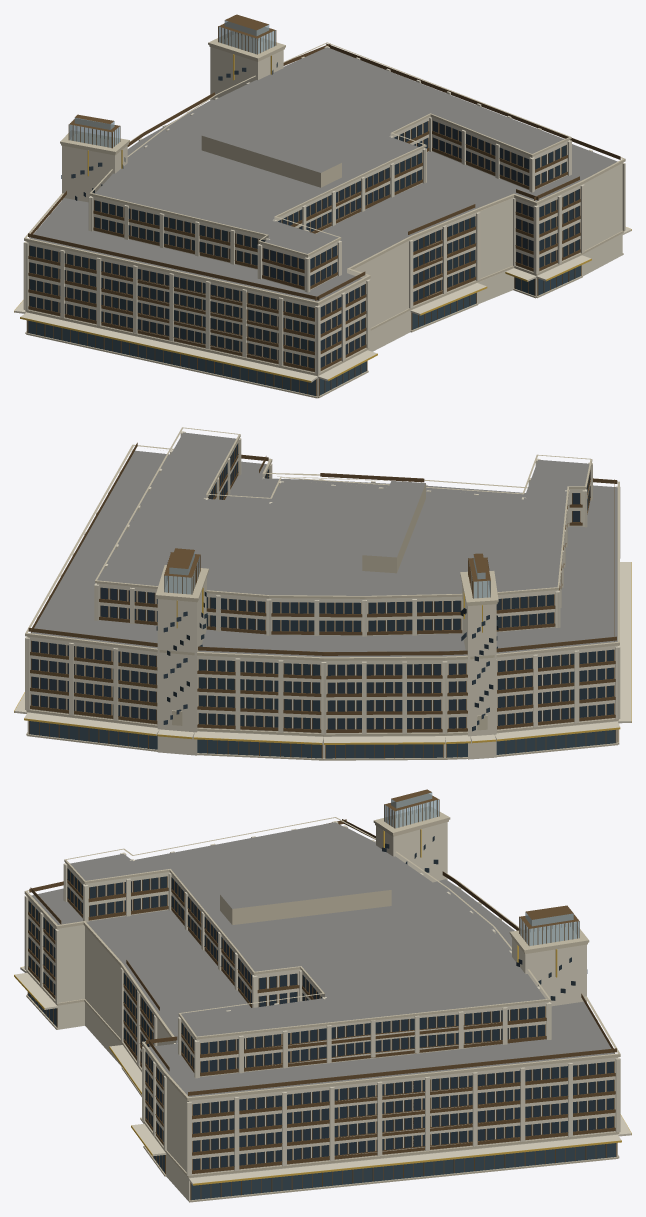
Rendered from barkers_building.glb.
3 renders of one model, top to bottom at view 1: azimuth 30°, elevation 25°; view 2: azimuth 150°, elevation 25°; view 3: azimuth 270°, elevation 25°, orthographic. The views are drawn at different scales.
Bounding box in the file's own units: 116 × 35.04 × 104.
